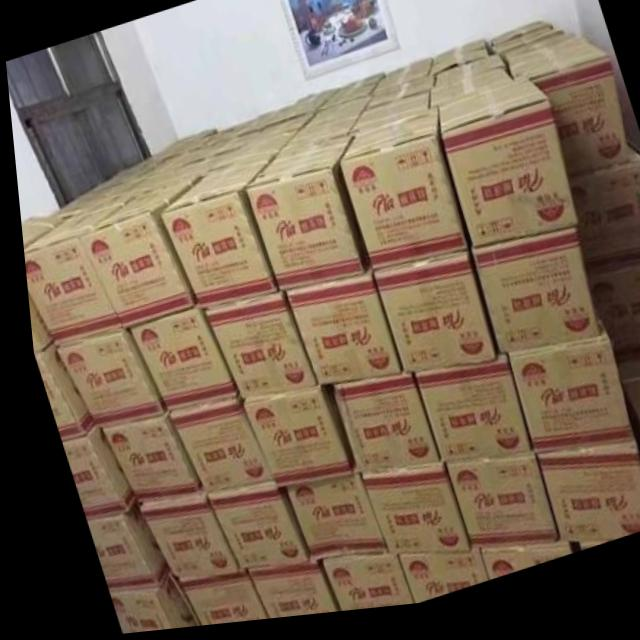box: (434, 88, 572, 257), (334, 118, 462, 277), (240, 142, 364, 295), (75, 180, 197, 331), (154, 160, 273, 312), (506, 52, 626, 190), (465, 238, 593, 365), (499, 332, 623, 463), (19, 199, 127, 346), (366, 259, 489, 383), (279, 280, 394, 392), (406, 366, 522, 470), (198, 295, 308, 402), (526, 452, 640, 552), (122, 310, 229, 414), (233, 391, 344, 490), (48, 331, 157, 430), (325, 382, 431, 478), (160, 400, 262, 498), (564, 159, 640, 290), (436, 462, 545, 551), (351, 471, 458, 561), (92, 417, 193, 506), (276, 479, 377, 567), (129, 498, 228, 587), (197, 485, 298, 572), (76, 503, 158, 592), (53, 427, 126, 520), (27, 344, 85, 443), (582, 277, 640, 375), (97, 574, 187, 635), (310, 560, 401, 617), (235, 566, 325, 623), (386, 554, 475, 611), (168, 574, 257, 629), (608, 370, 640, 484), (425, 75, 509, 117), (469, 552, 559, 589), (275, 118, 358, 157), (347, 101, 427, 139), (500, 43, 583, 75), (17, 216, 58, 249), (22, 294, 45, 352)
